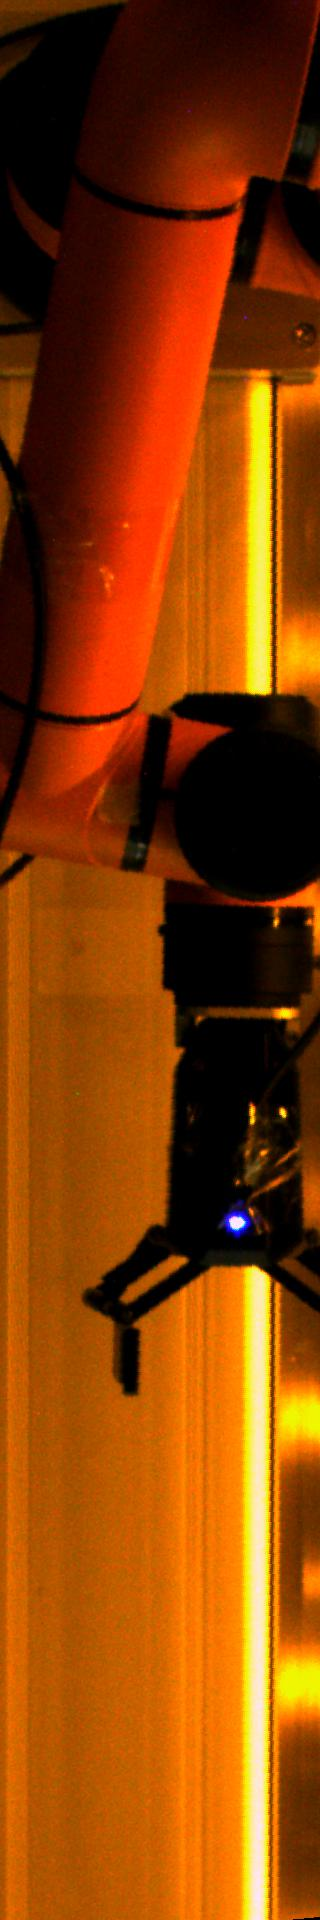keyPoint_1: (222, 1205, 253, 1236)
